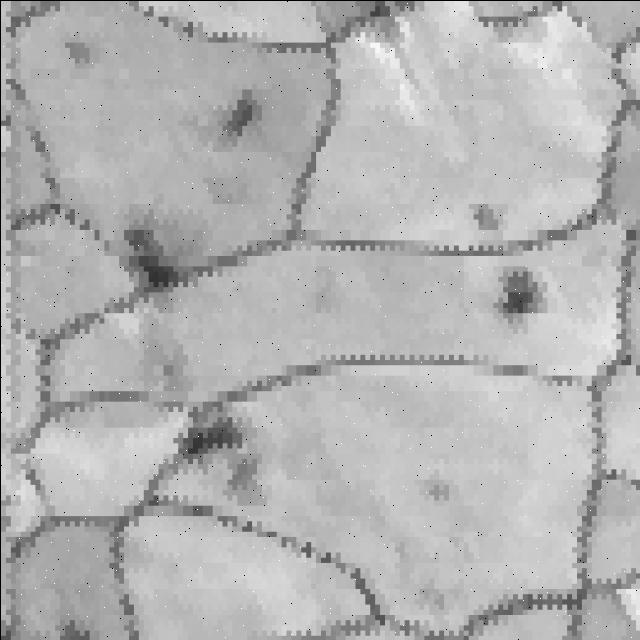good_void: (119, 228, 197, 293), (172, 408, 246, 460), (492, 265, 546, 317), (211, 92, 269, 138), (461, 198, 504, 235), (63, 36, 93, 73)
